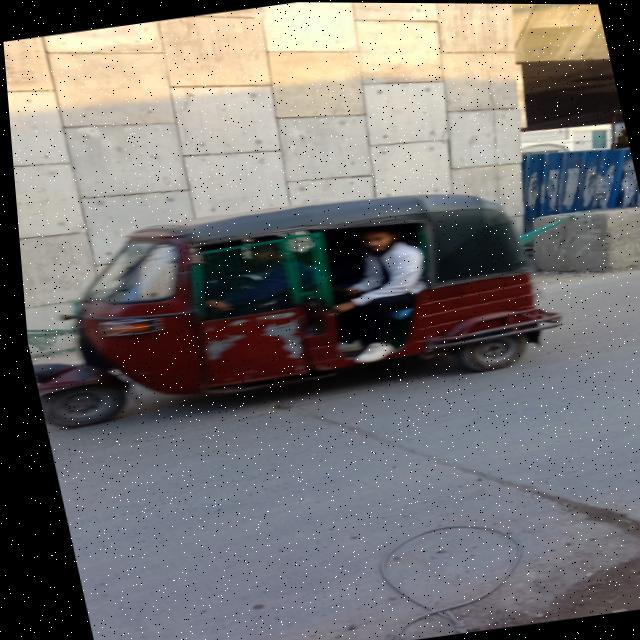cng: (23, 154, 587, 442)
